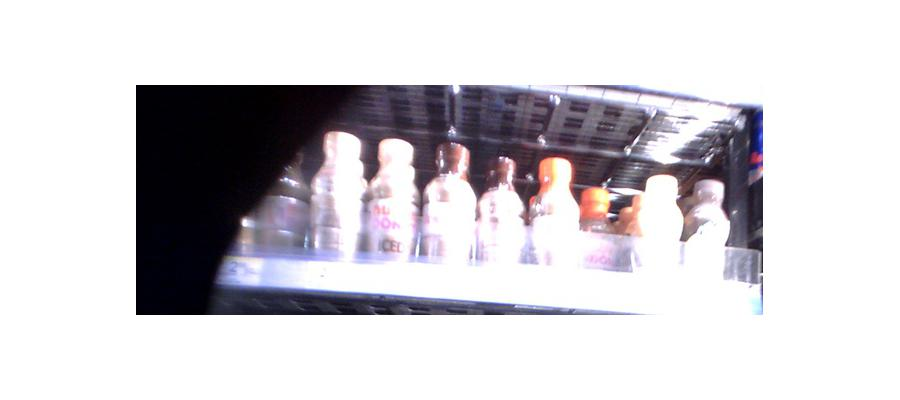bottle: (420, 134, 476, 268), (307, 132, 364, 257), (681, 177, 737, 292), (528, 153, 583, 267), (366, 137, 417, 259), (253, 146, 307, 248), (478, 152, 525, 265), (635, 172, 683, 281)
